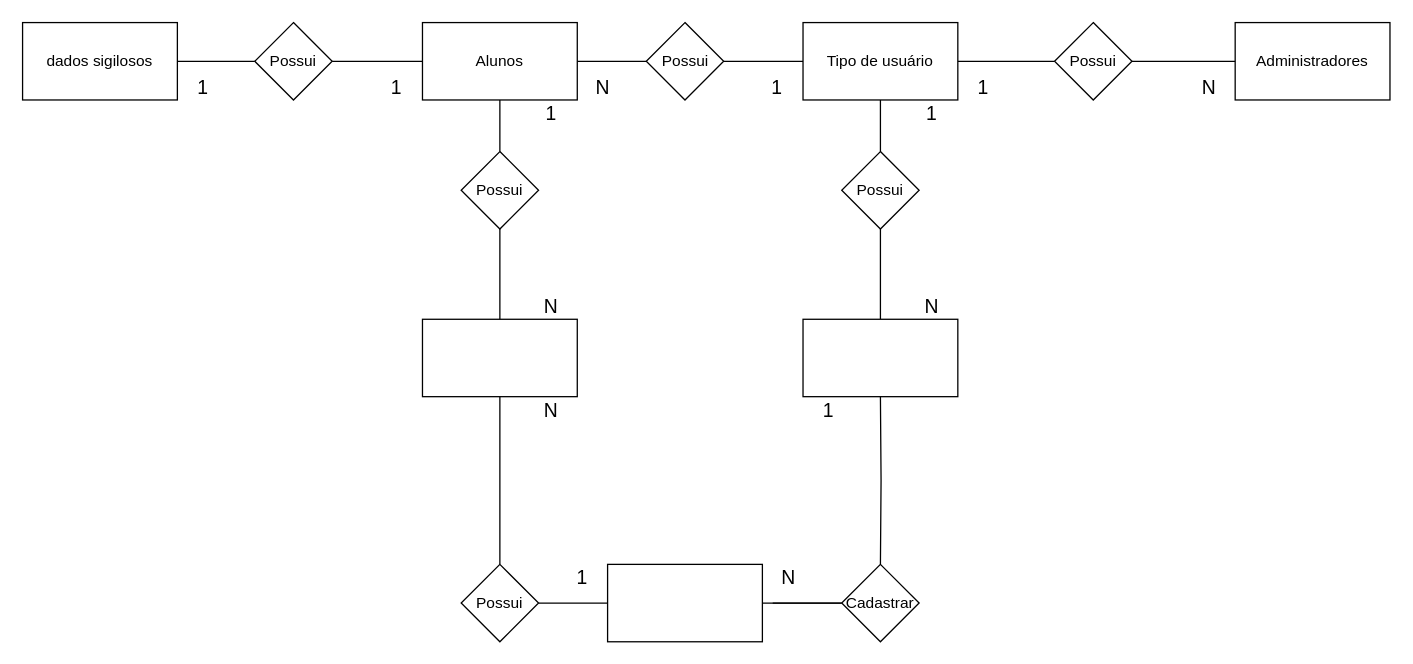
The diagram is 1413 pixels wide and 664 high, and some of its shapes have lost their labels. Here are the shapes that lost their labels. From the top down, the box of each, then its label:
(421, 318, 577, 397): Inscrição
(802, 318, 958, 397): Empresas
(606, 563, 762, 642): Vagas
